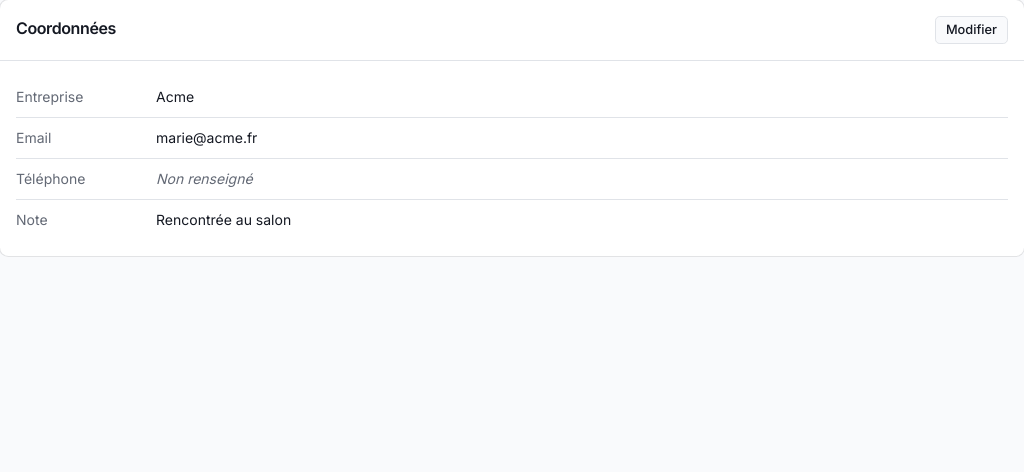
Test case: ContactCoordinates › ouvre le formulaire au clic sur « Modifier », et le referme sur « Annuler »
Click the button "Modifier" at (971, 30), box [935, 16, 1008, 44]
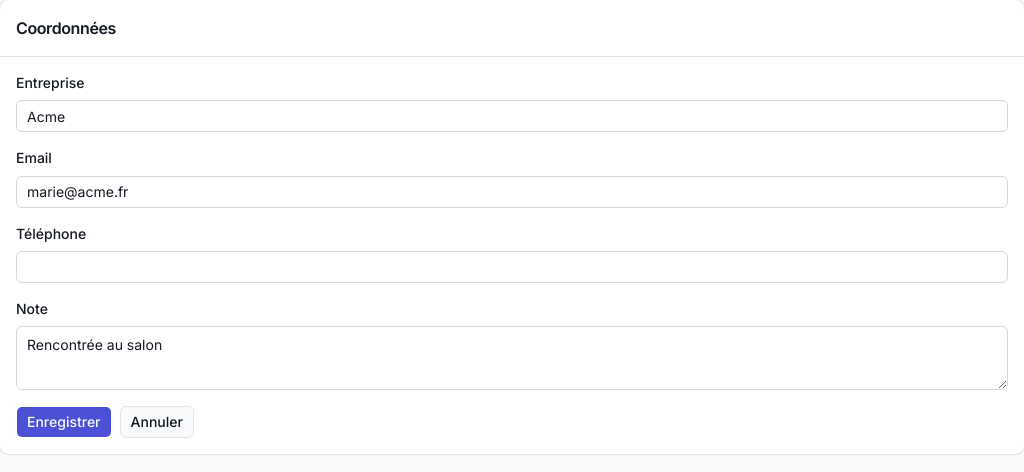
expect the field labelled "Entreprise" holds "Acme": met, box [16, 100, 1008, 132]
expect the button "Modifier" is gone: met
Click the button "Annuler" at (157, 422), box [120, 406, 194, 438]
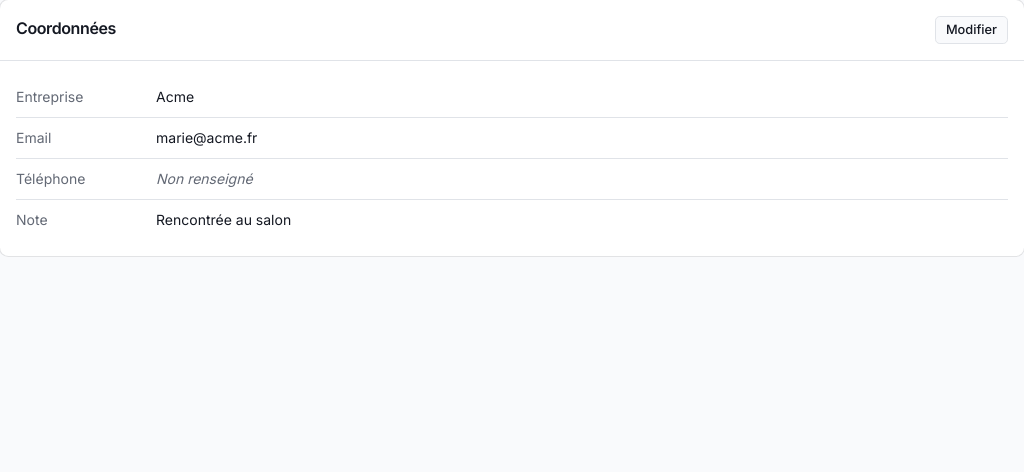
expect the field is gone: met
expect the text "Acme" is shown: met, box [156, 88, 194, 105]
